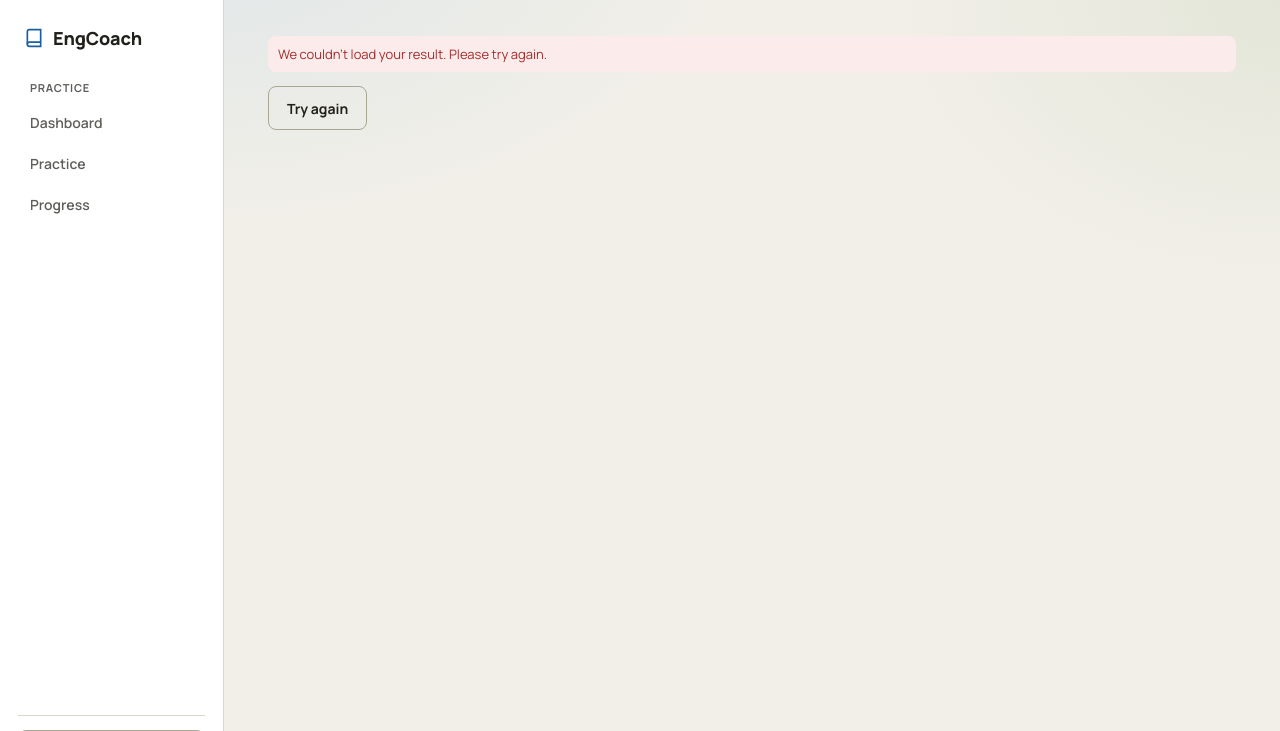
Result screen (S9) › load failure: alert and Try again
The image size is (1280, 731).
Expected: the message shows "couldn't load your result", left=278, top=45, right=547, bottom=63
Click the button "Try again" at (318, 108), box left=268, top=86, right=367, bottom=130
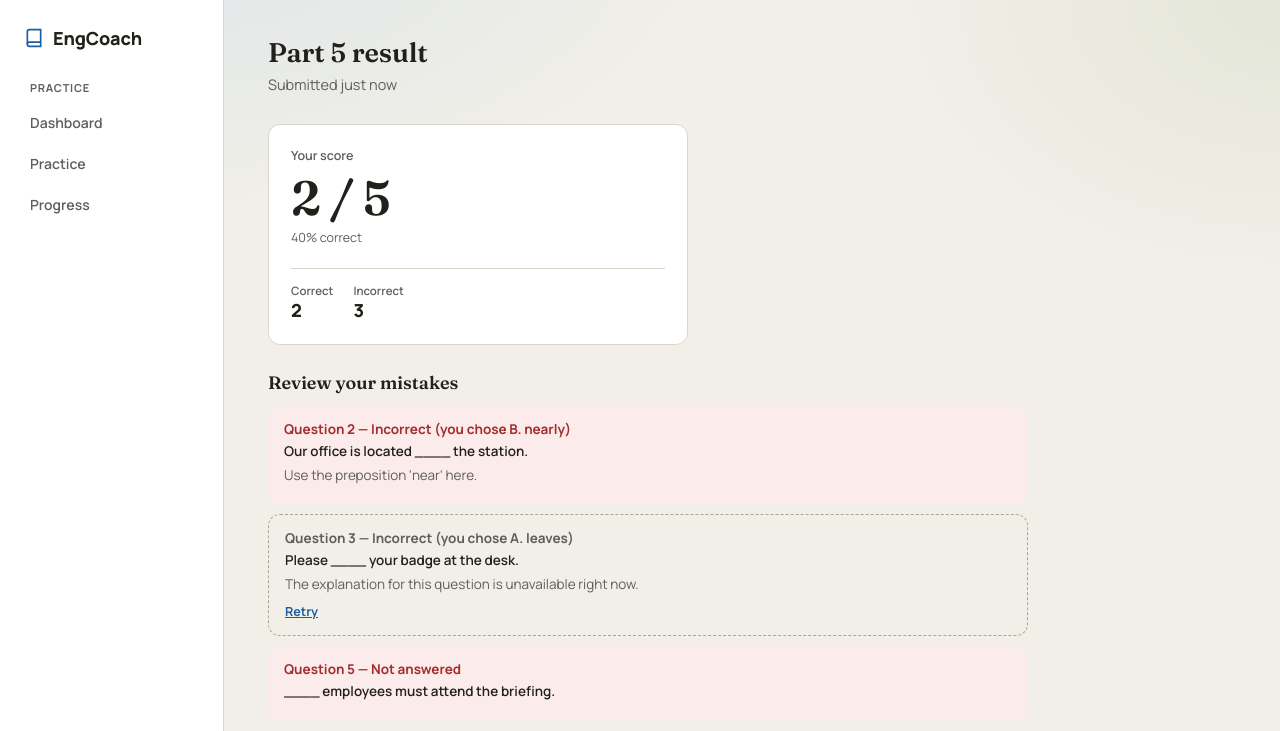
Result: the text "2 / 5" is shown at left=291, top=168, right=390, bottom=227
